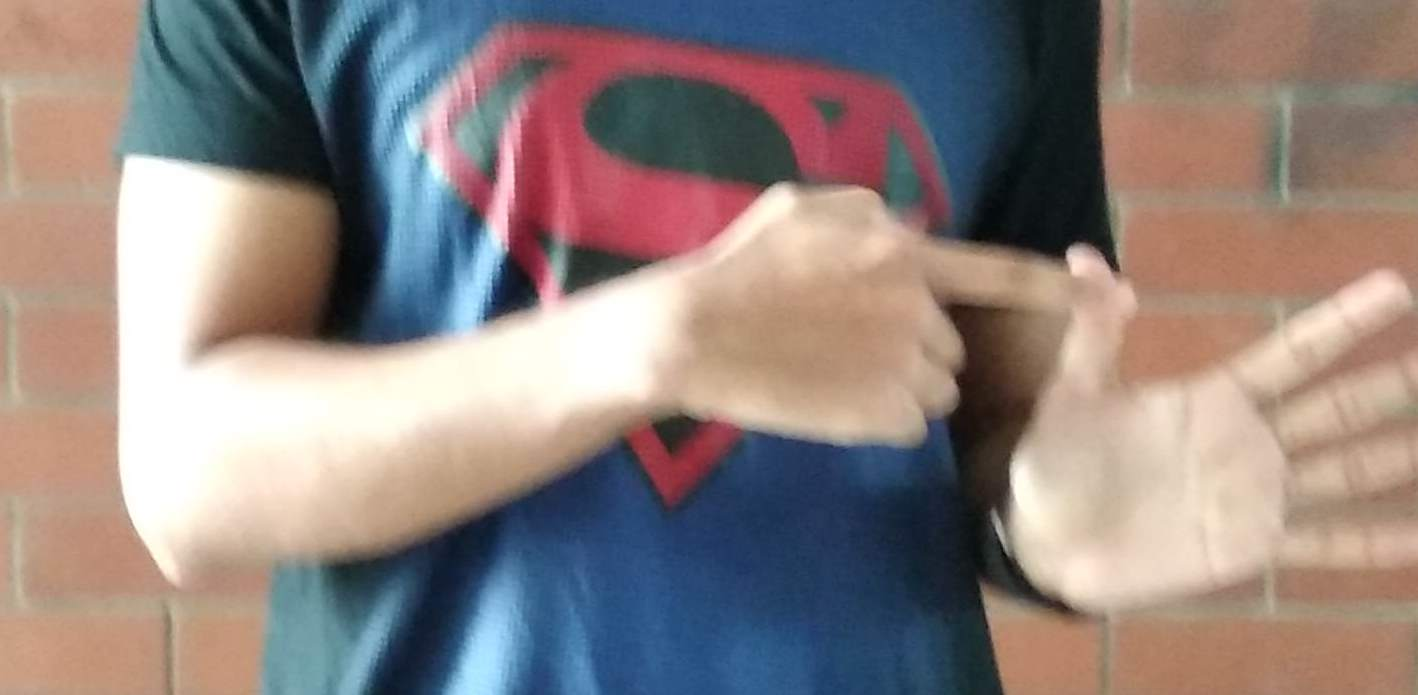a: (745, 160, 1414, 558)
